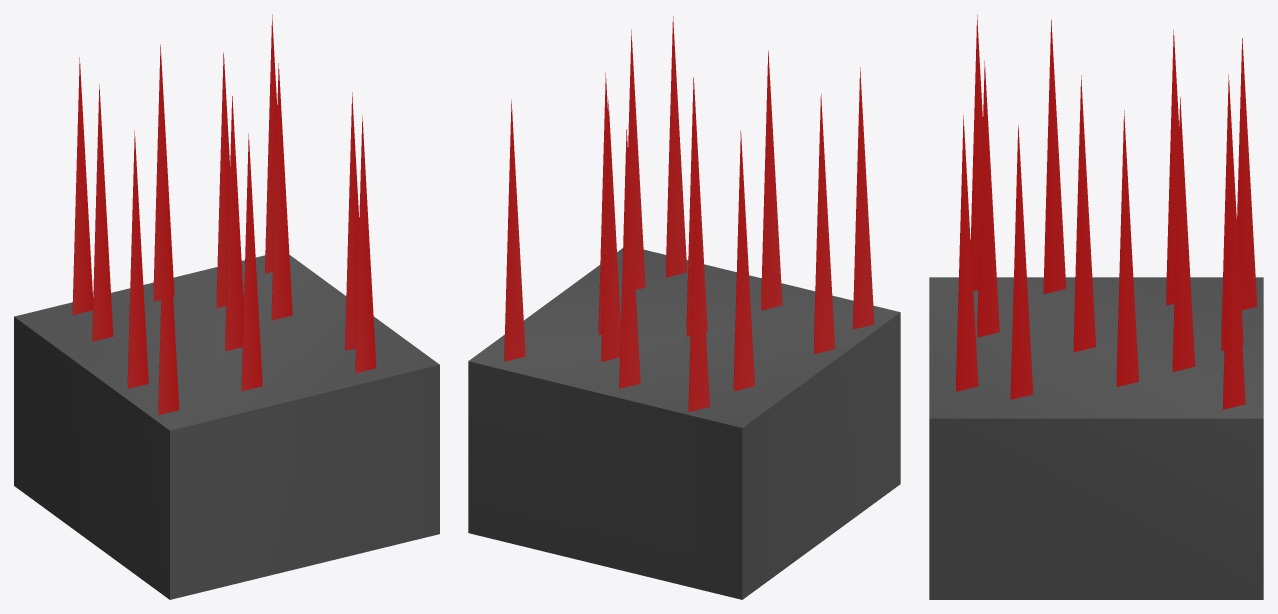
The model's file is spikes.glb.
3 renders of one model, left to right at view 1: azimuth 30°, elevation 25°; view 2: azimuth 150°, elevation 25°; view 3: azimuth 270°, elevation 25°, orthographic. The views are drawn at different scales.
Parts seen in each view (by area): view 1: Cube, Cone.008, Cone.011, Cone.009, Cone.003, Cone, Cone.001, Cone.002, Cone.010, Cone.007, Cone.006, Cone.005 (+1 smaller); view 2: Cube, Cone.002, Cone.003, Cone.004, Cone.006, Cone.008, Cone.001, Cone.009, Cone, Cone.005, Cone.007, Cone.010 (+1 smaller); view 3: Cube, Cone.010, Cone.011, Cone.008, Cone.007, Cone.005, Cone.004, Cone.009, Cone, Cone.002, Cone.003, Cone.001 (+1 smaller).
Part boxes in pixels (x1,y1,x2,y2): Cube: (14, 255, 439, 599); Cone.008: (241, 133, 262, 391); Cone.011: (271, 63, 292, 320); Cone.009: (127, 130, 148, 388); Cone.003: (92, 84, 113, 341); Cone: (355, 115, 376, 373); Cone.001: (158, 158, 179, 414); Cone.002: (72, 57, 93, 314); Cone.010: (225, 96, 243, 351); Cone.007: (345, 92, 359, 350); Cone.006: (153, 44, 174, 301); Cone.005: (216, 52, 229, 308); Cube: (468, 248, 900, 599); Cone.002: (688, 149, 709, 411); Cone.003: (733, 130, 754, 391); Cone.004: (504, 100, 525, 361); Cone.006: (619, 129, 640, 388); Cone.008: (761, 50, 782, 310); Cone.001: (853, 67, 874, 329); Cone.009: (814, 94, 835, 354); Cone: (666, 16, 687, 277); Cone.005: (601, 100, 620, 361); Cone.007: (628, 29, 645, 289); Cone.010: (686, 77, 707, 336); Cube: (929, 277, 1263, 599); Cone.010: (1073, 75, 1096, 352); Cone.011: (1116, 110, 1138, 386); Cone.008: (977, 61, 999, 337); Cone.007: (1010, 125, 1033, 399); Cone.005: (1172, 97, 1195, 371); Cone.004: (1223, 135, 1245, 409); Cone.009: (1043, 20, 1066, 293); Cone: (956, 115, 978, 391); Cone.002: (1237, 38, 1257, 310); Cone.003: (1166, 30, 1179, 305); Cone.001: (970, 14, 982, 291).
Bounding box in the file's own units: 2 × 3 × 2.
